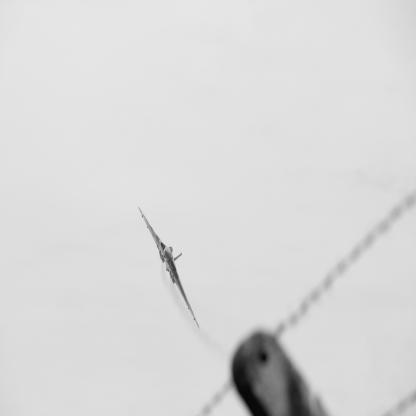Vulcan: (139, 208, 200, 331)
